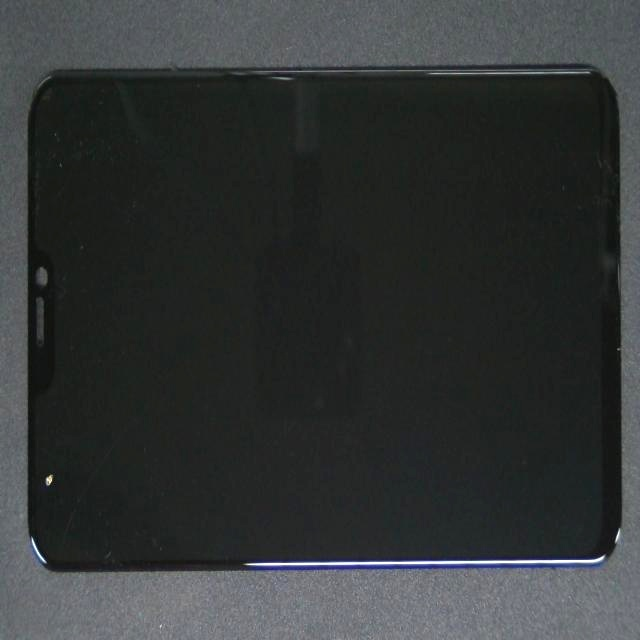stain: (44, 216, 73, 640)
